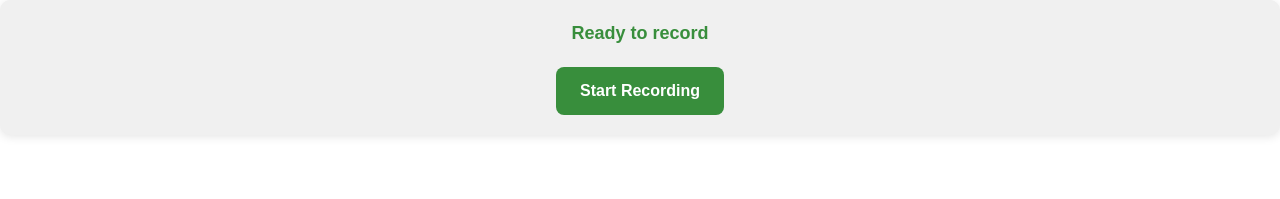
Test case: Recorder upload availability › does not start recording when the server cannot prepare an upload
Click the button "Start Recording".
click(640, 91)  # box [556, 67, 724, 115]
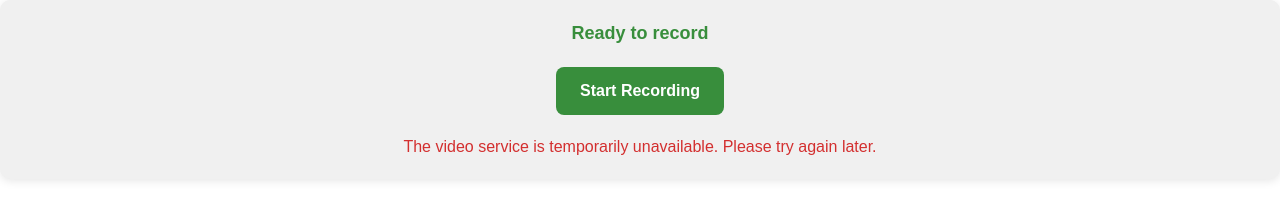
Expected: the message shows "video service is temporarily unavailable", [403, 138, 876, 155]
